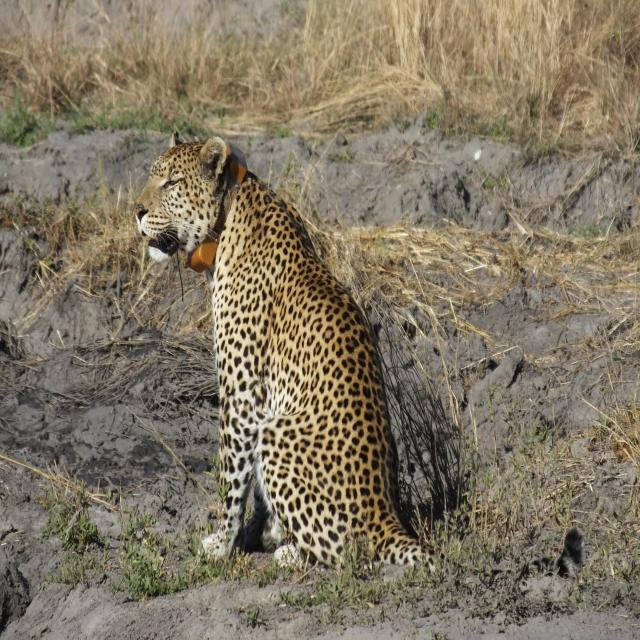Leopard: (141, 94, 501, 633)
